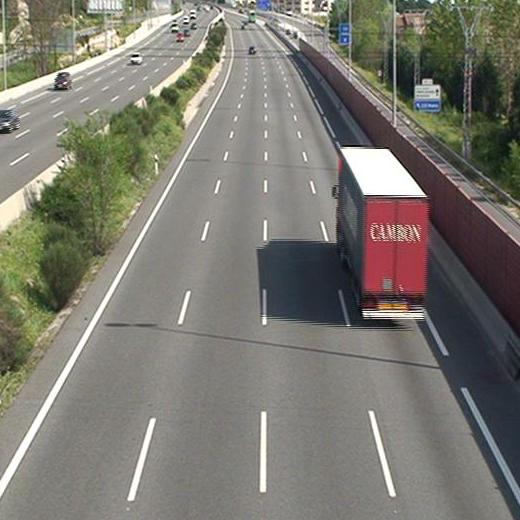truck: (335, 146, 427, 319)
